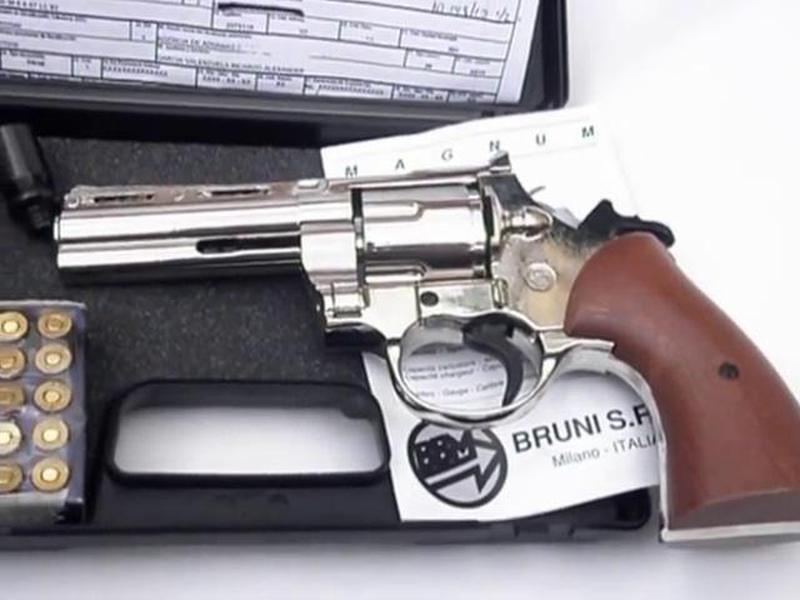Revolver: (59, 149, 800, 492)
